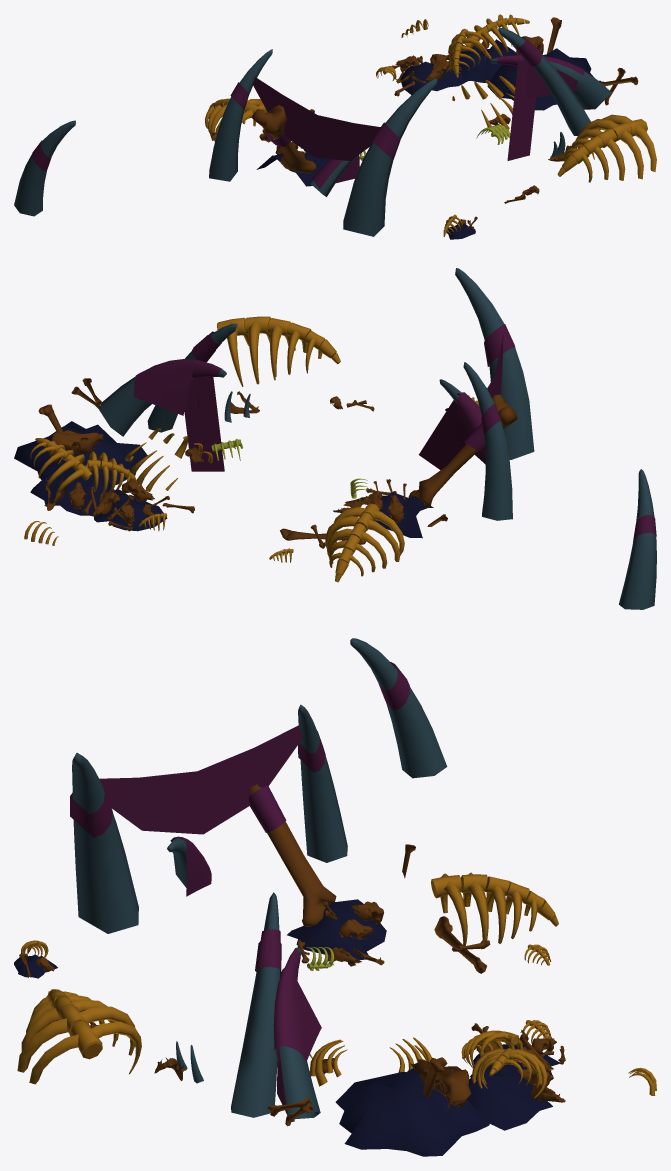
File: GoblinMapBoss_Bone.fbx
3 renders of one model, top to bottom at view 1: azimuth 30°, elevation 25°; view 2: azimuth 150°, elevation 25°; view 3: azimuth 270°, elevation 25°, orthographic. The views are drawn at different scales.
Visible parts, largest first — view 1: Bone02, BoneWorn, skeleton02, BoneRipe, skeleton03, skeleton01; view 2: Bone02, skeleton02, BoneWorn, skeleton03, BoneRipe, skeleton01; view 3: Bone02, BoneWorn, skeleton02, BoneRipe, skeleton03.
Boxes of the visible parts, box(x1,y1,x2,y2) form: Bone02: box(14, 27, 611, 236); BoneWorn: box(32, 37, 584, 189); skeleton02: box(205, 14, 656, 236); BoneRipe: box(256, 39, 594, 239); skeleton03: box(211, 17, 638, 229); skeleton01: box(359, 124, 510, 160); Bone02: box(99, 268, 656, 609); skeleton02: box(24, 316, 479, 582); BoneWorn: box(133, 324, 656, 541); skeleton03: box(38, 378, 517, 548); BoneRipe: box(14, 408, 448, 538); skeleton01: box(211, 439, 367, 498); Bone02: box(72, 638, 447, 1119); BoneWorn: box(70, 662, 409, 1114); skeleton02: box(17, 872, 656, 1098); BoneRipe: box(14, 899, 559, 1156); skeleton03: box(19, 784, 565, 1126).
Bounding box in the file's own units: 1982 × 567 × 1345.
